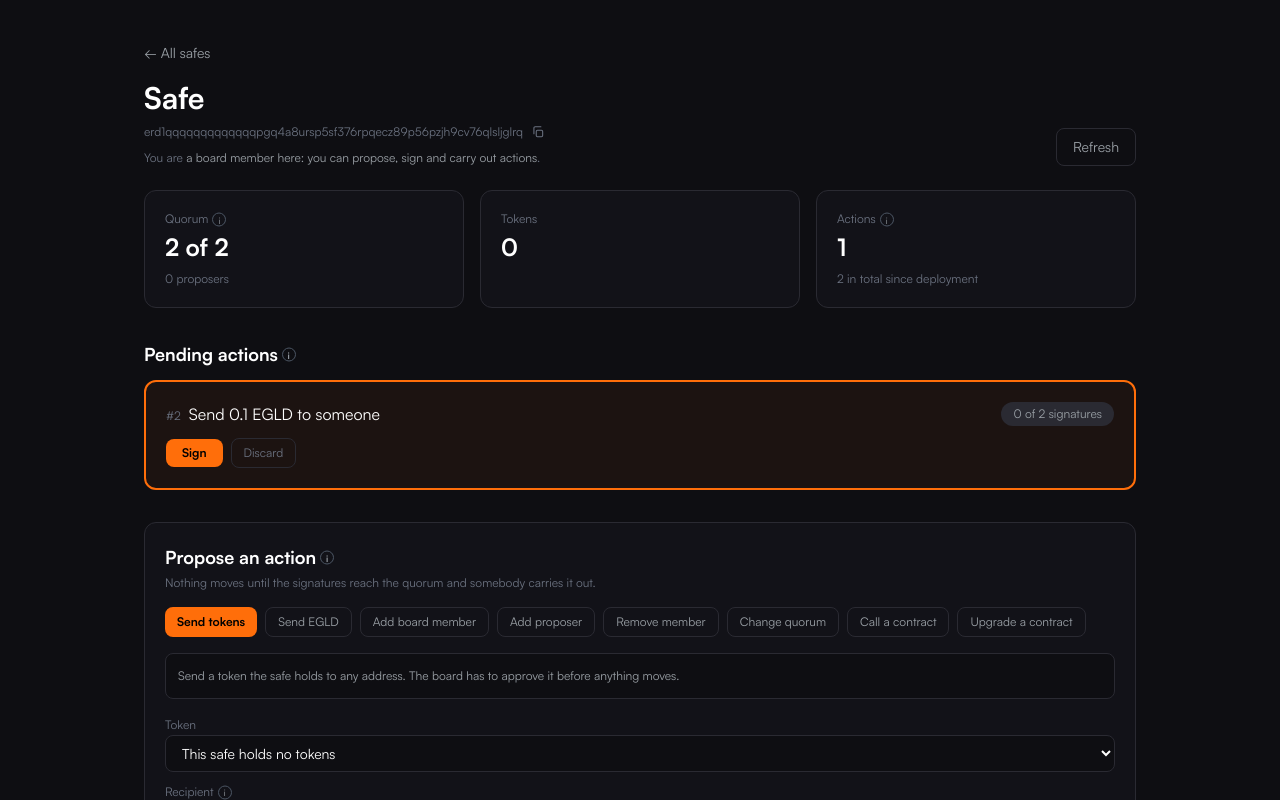
Test case: the safe page › a role read for the previous wallet that answers late does not become the new wallet's role
Expected: the text "a board member here" is shown, [186,150,537,165]
# Refresh starts a second read of the board member's role, still in flight.
Click the button "Refresh". click: [1096, 147]
box: [1056,128,1136,166]
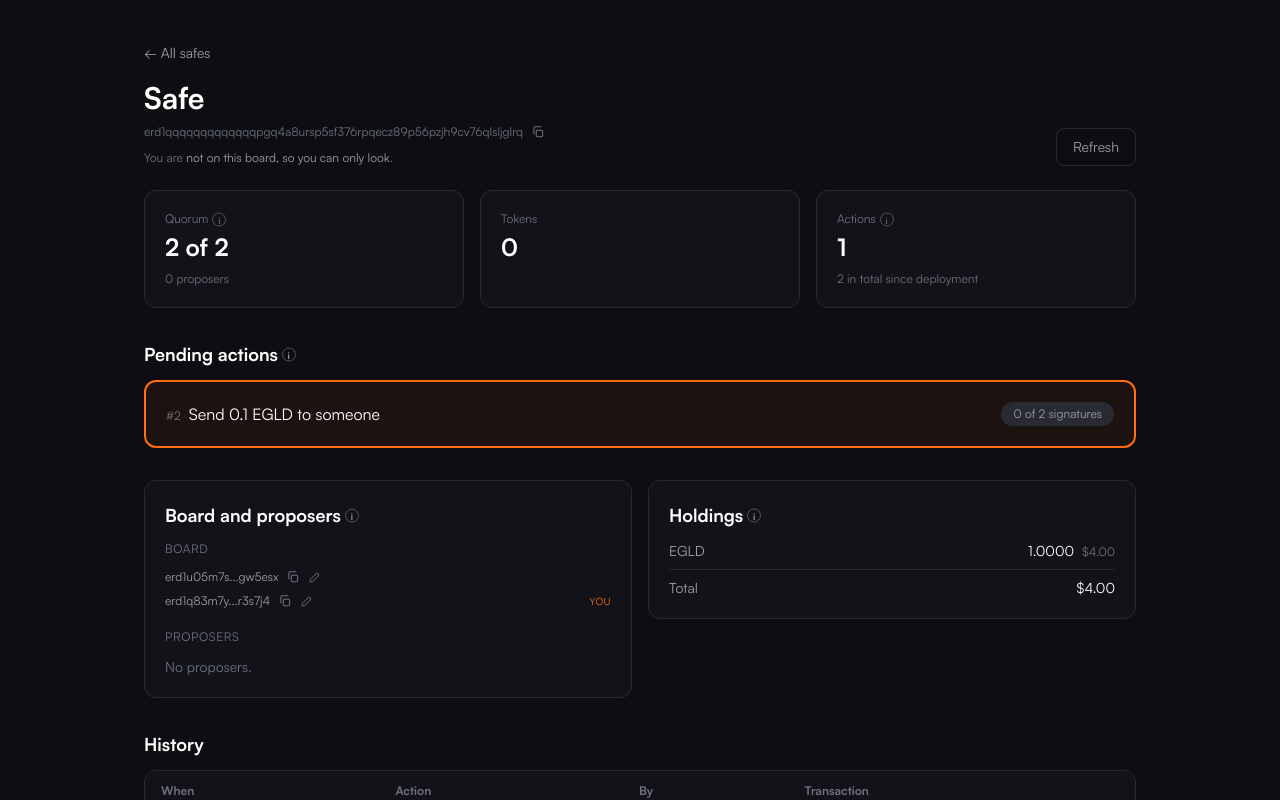
Result: the text "a board member here" is gone
Result: the text "not on this board, so you can only look" is shown at [186,150,390,165]
